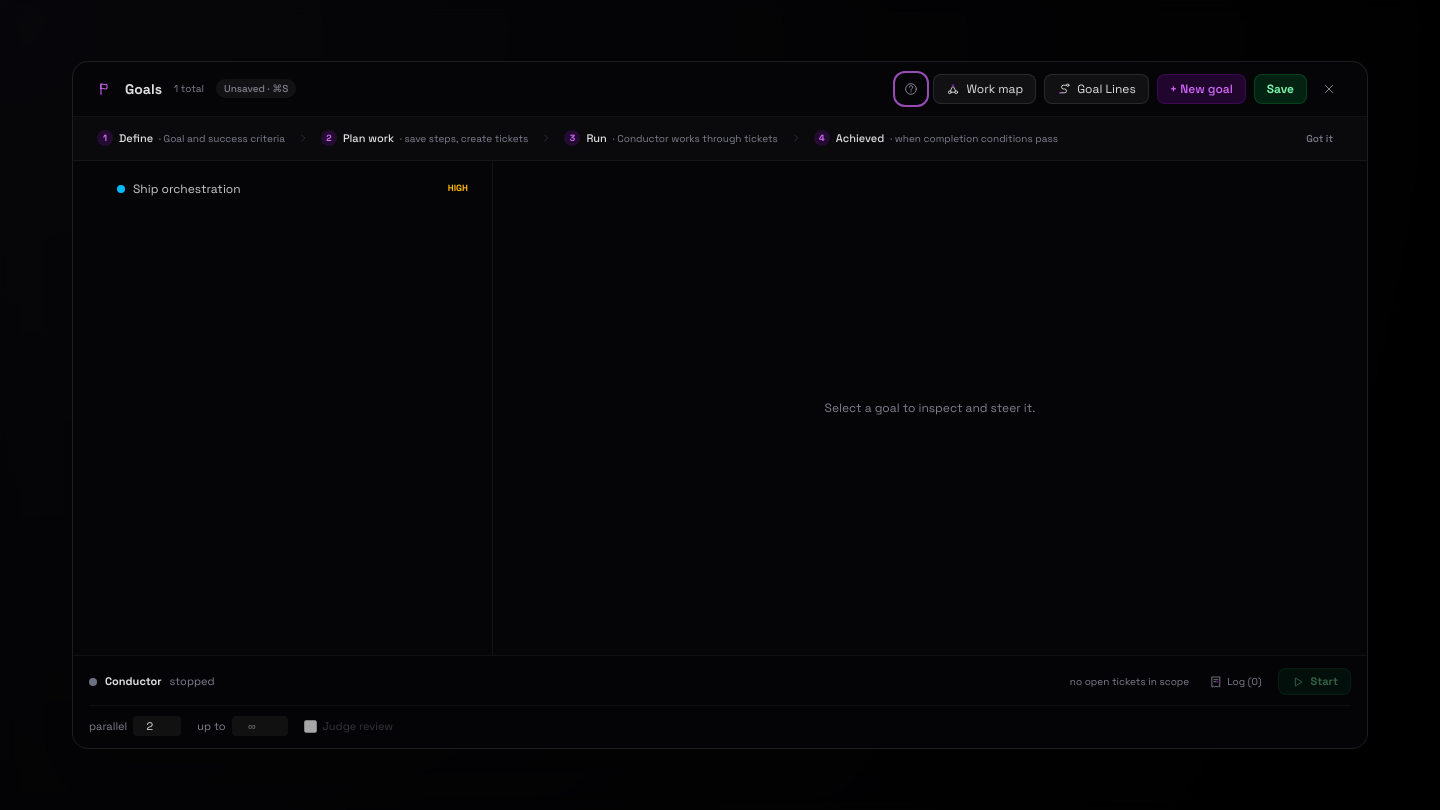
Test case: GoalsModal › closing with unsaved changes › keeps the edits and the modal open when the user cancels
Click the button with test id "goals-close-btn".
click(1329, 89)  # box left=1315, top=75, right=1343, bottom=103
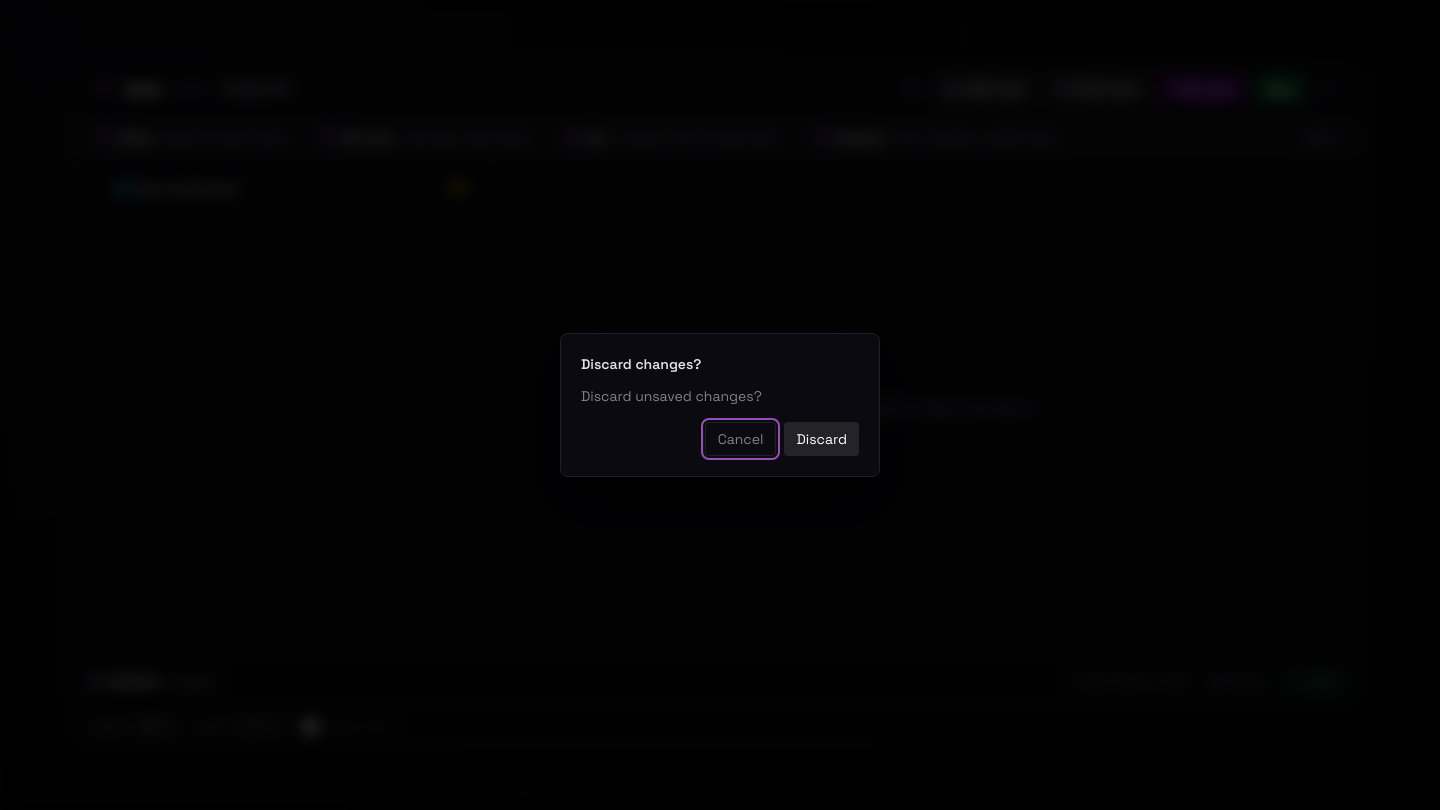
Click the button "Cancel".
click(741, 439)  # box left=705, top=422, right=776, bottom=456
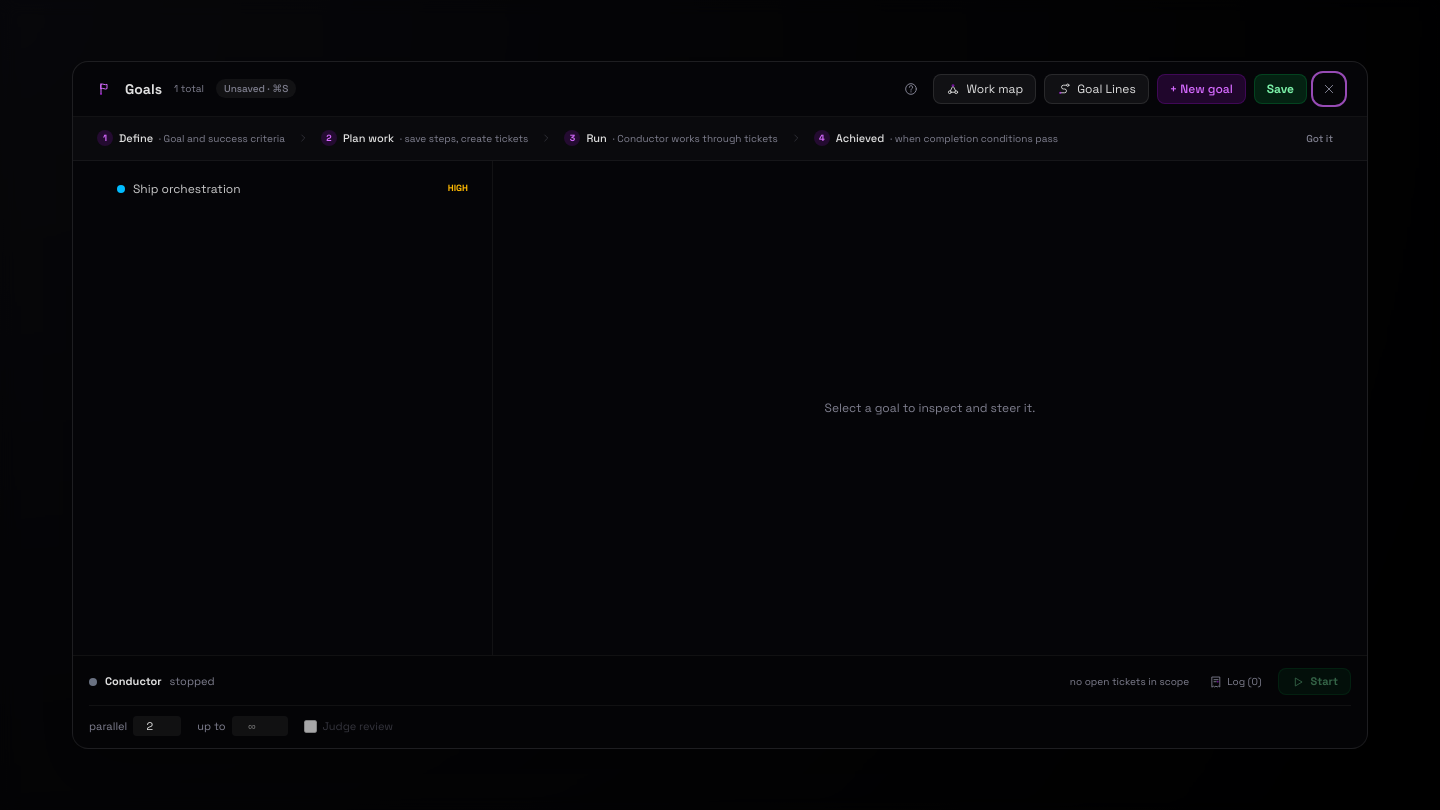
Now the heading "Discard changes?" is gone
